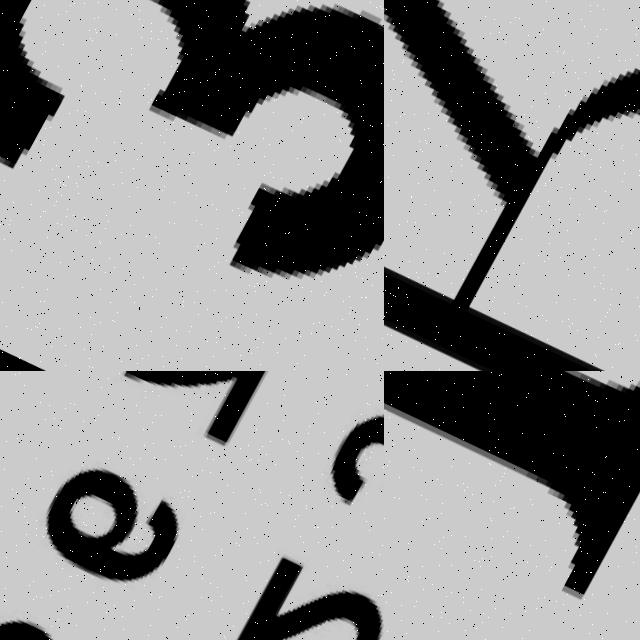2: (228, 550, 384, 640)
3: (0, 0, 384, 371), (315, 405, 384, 571)
6: (26, 448, 198, 621)
7: (110, 371, 280, 471)
I: (384, 371, 640, 609)
R: (384, 0, 640, 371)
